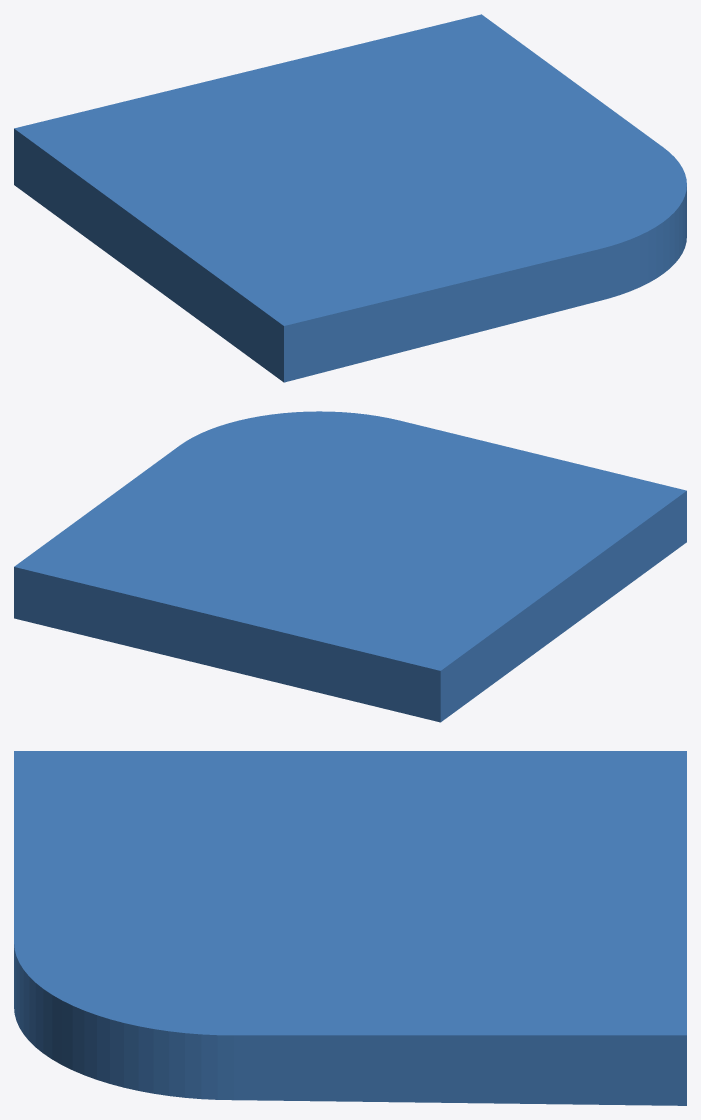
Rendered from floor_round.gltf.
3 renders of one model, top to bottom at view 1: azimuth 30°, elevation 25°; view 2: azimuth 150°, elevation 25°; view 3: azimuth 270°, elevation 25°, orthographic. The views are drawn at different scales.
Visible parts, largest first — view 1: Cube; view 2: Cube; view 3: Cube.
Part boxes in pixels (<box>): Cube: <box>14,14,686,382</box>; Cube: <box>14,411,686,722</box>; Cube: <box>14,751,686,1105</box>.
Bounding box in the file's own units: 2 × 0.2311 × 2.
